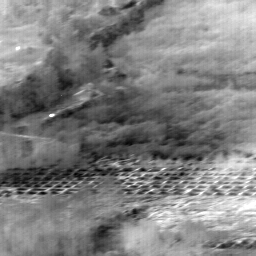aircraft: (50, 114, 52, 116)
